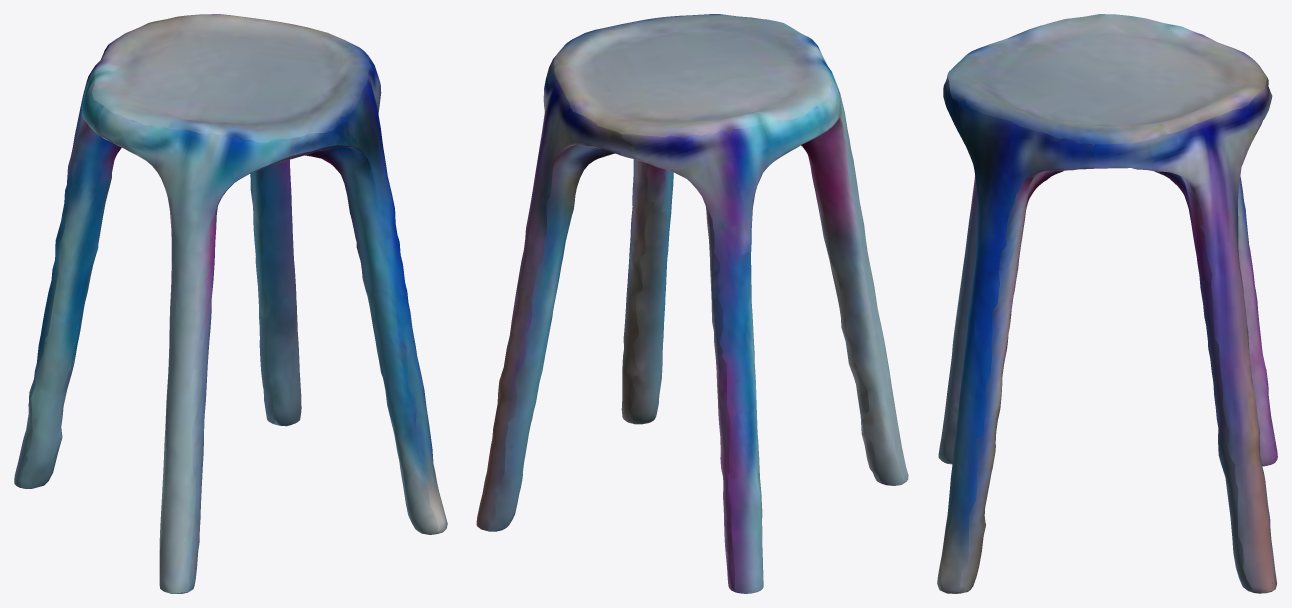
3 views of the same model, side by side, from view 1: azimuth 30°, elevation 25°; view 2: azimuth 150°, elevation 25°; view 3: azimuth 270°, elevation 25° (orthographic). The views are drawn at different scales.
Parts seen in each view (by area): view 1: world; view 2: world; view 3: world.
Boxes of the visible parts, x1,y1,x2,y2 form: world: [14, 14, 447, 593]; world: [476, 14, 908, 593]; world: [937, 14, 1277, 593].
Size of the model in its own units: 0.1603 by 0.2351 by 0.1609.
Materials: 1 (1 with a texture image).
